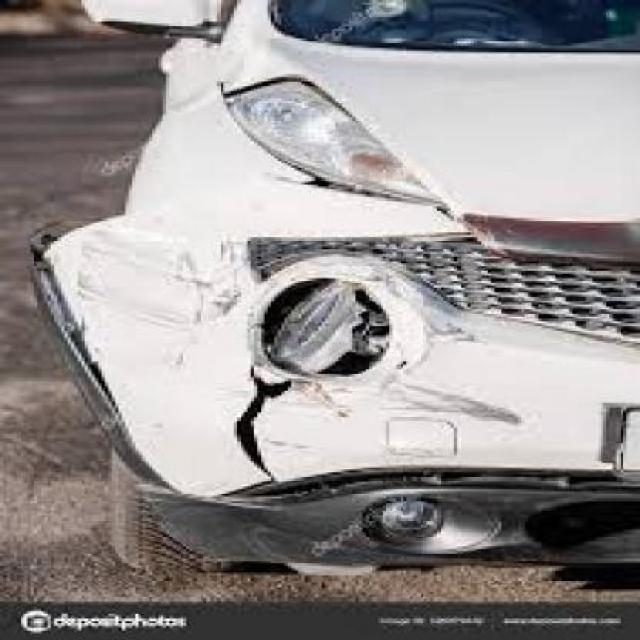damaged-front-bumper: (34, 233, 637, 570)
